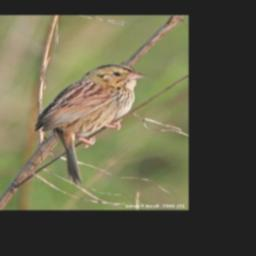Sparrow: (32, 63, 147, 188)
